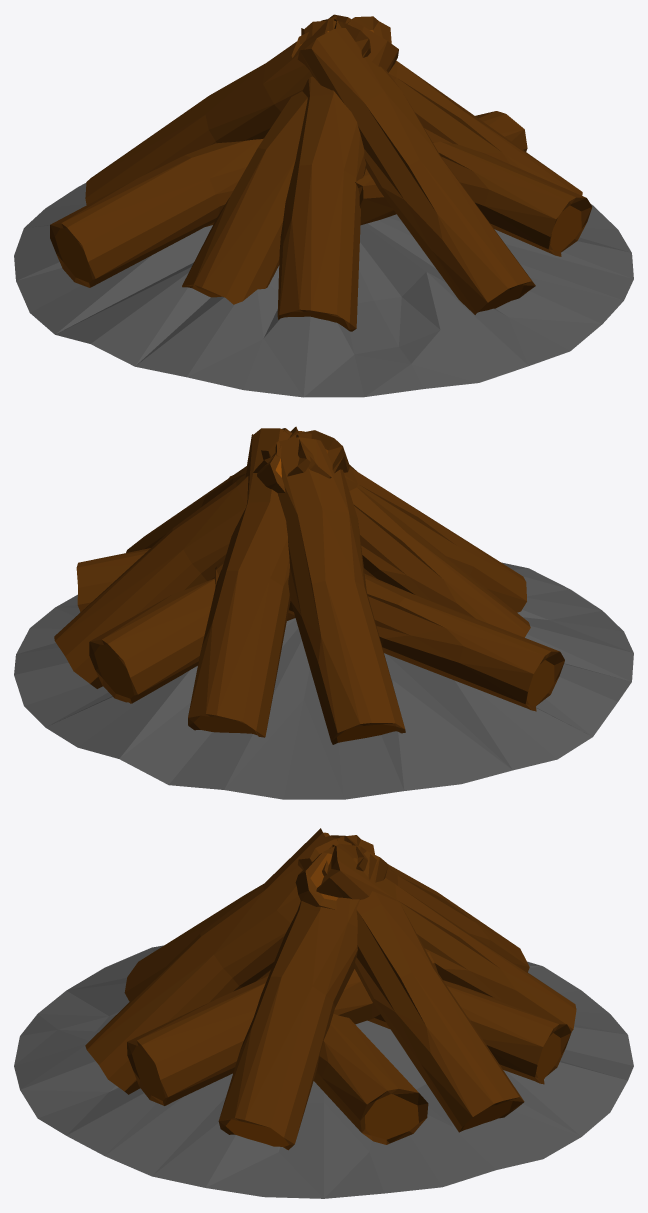
File: campfire.fbx
3 renders of one model, top to bottom at view 1: azimuth 30°, elevation 25°; view 2: azimuth 150°, elevation 25°; view 3: azimuth 270°, elevation 25°, orthographic.
Visible parts, largest first — view 1: Circle, Cylinder.004, Cylinder.006, Cylinder.011, Cylinder.001, Cylinder.005, Cylinder.010, Cylinder.002, Cylinder.009, Cylinder.003; view 2: Circle, Cylinder.005, Cylinder.007, Cylinder.011, Cylinder.003, Cylinder.001, Cylinder.008, Cylinder.006, Cylinder.002, Cylinder.009, Cylinder.004; view 3: Circle, Cylinder.002, Cylinder.003, Cylinder.004, Cylinder.010, Cylinder.007, Cylinder.009, Cylinder.008, Cylinder.005, Cylinder.006, Cylinder.001.
Boxes of the visible parts, x1=… form: Circle: x1=14, y1=183, x2=633, y2=397; Cylinder.004: x1=297, y1=28, x2=535, y2=314; Cylinder.006: x1=277, y1=20, x2=366, y2=331; Cylinder.011: x1=50, y1=138, x2=263, y2=287; Cylinder.001: x1=182, y1=14, x2=398, y2=304; Cylinder.005: x1=85, y1=16, x2=336, y2=204; Cylinder.010: x1=433, y1=141, x2=592, y2=256; Cylinder.002: x1=321, y1=18, x2=582, y2=195; Cylinder.009: x1=355, y1=111, x2=527, y2=224; Cylinder.003: x1=291, y1=21, x2=370, y2=57; Circle: x1=14, y1=562, x2=633, y2=799; Cylinder.005: x1=261, y1=437, x2=405, y2=744; Cylinder.007: x1=188, y1=428, x2=292, y2=737; Cylinder.011: x1=288, y1=574, x2=564, y2=711; Cylinder.003: x1=54, y1=426, x2=331, y2=688; Cylinder.001: x1=253, y1=428, x2=530, y2=637; Cylinder.008: x1=89, y1=578, x2=295, y2=703; Cylinder.006: x1=287, y1=433, x2=526, y2=612; Cylinder.002: x1=126, y1=433, x2=311, y2=552; Cylinder.009: x1=76, y1=548, x2=150, y2=612; Cylinder.004: x1=299, y1=430, x2=356, y2=473; Circle: x1=14, y1=945, x2=633, y2=1198; Cylinder.002: x1=218, y1=837, x2=388, y2=1150; Cylinder.003: x1=298, y1=839, x2=524, y2=1132; Cylinder.004: x1=85, y1=828, x2=329, y2=1094; Cylinder.010: x1=127, y1=952, x2=437, y2=1105; Cylinder.007: x1=316, y1=845, x2=576, y2=1031; Cylinder.009: x1=266, y1=974, x2=428, y2=1144; Cylinder.008: x1=367, y1=980, x2=571, y2=1084; Cylinder.005: x1=326, y1=835, x2=529, y2=972; Cylinder.006: x1=124, y1=835, x2=374, y2=1001; Cylinder.001: x1=295, y1=844, x2=376, y2=909.
Size of the model in its own units: 200 by 85.59 by 200.
